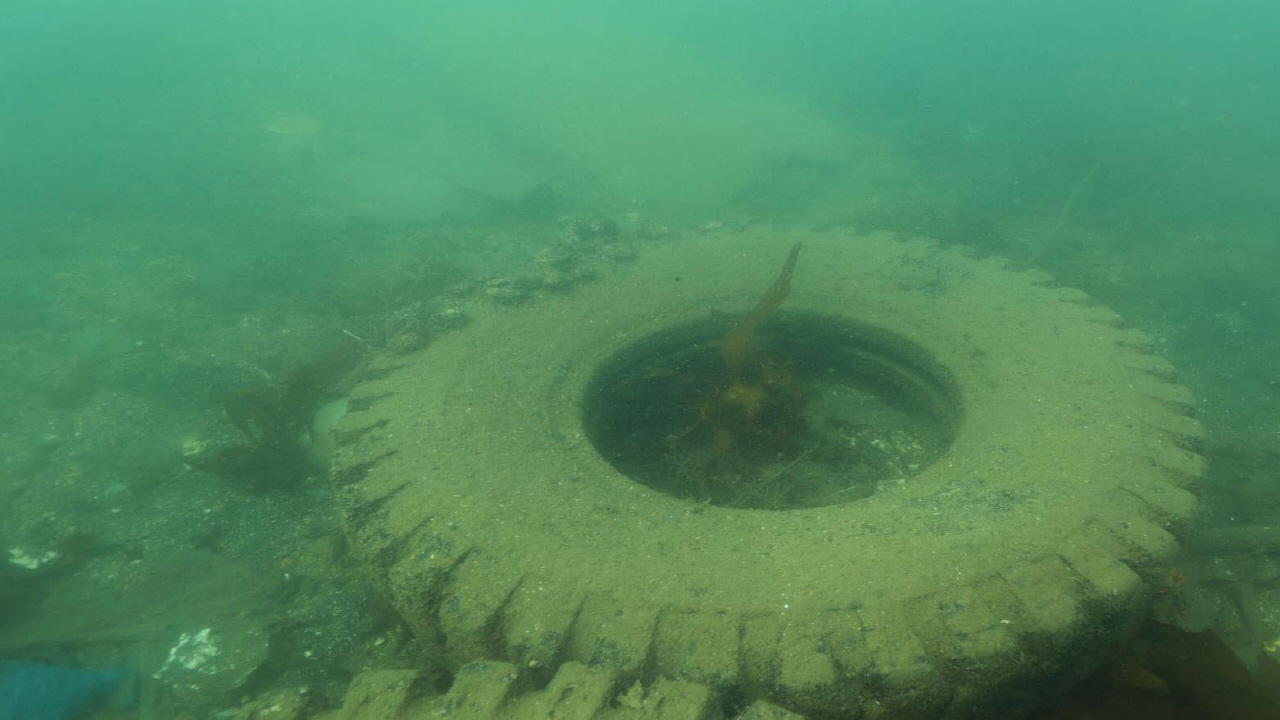tire: (328, 220, 1206, 720)
